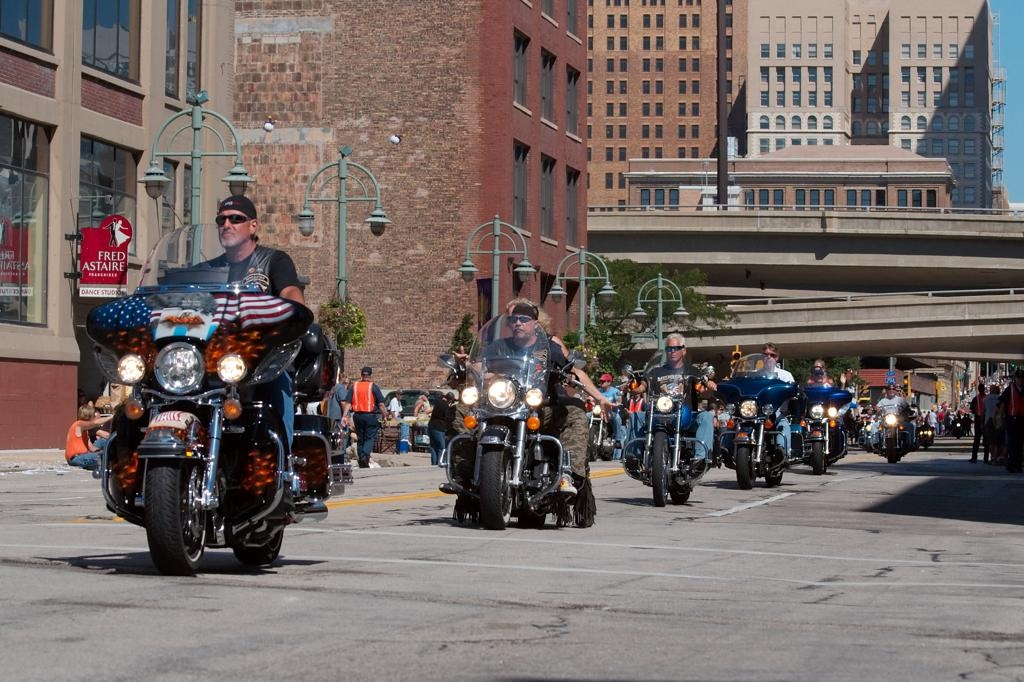human_face: (216, 206, 250, 246), (512, 310, 534, 338), (508, 306, 528, 332), (666, 338, 680, 360), (760, 346, 776, 364), (814, 367, 822, 381), (86, 411, 94, 423), (92, 413, 100, 425), (1016, 374, 1024, 384), (600, 376, 608, 385), (887, 385, 893, 395), (396, 390, 402, 398), (895, 387, 901, 395), (702, 399, 708, 407), (423, 391, 429, 398), (718, 406, 722, 412)
